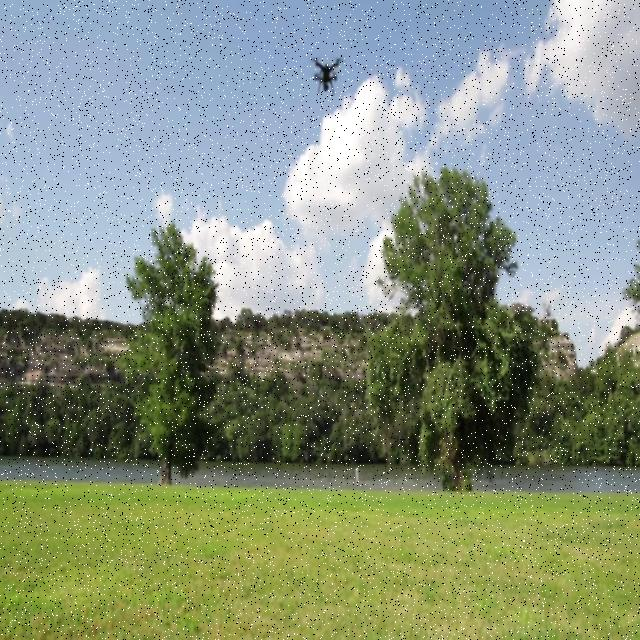UAV: (312, 55, 342, 96)
